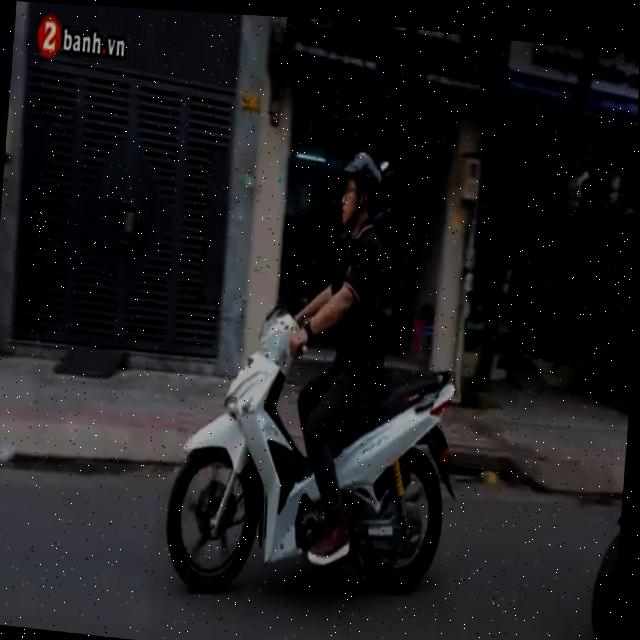motorcycle: (154, 262, 481, 627)
